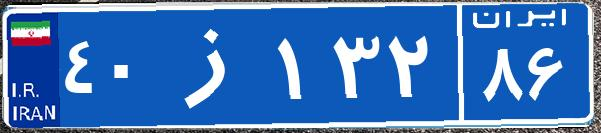0: (110, 28, 158, 105)
1: (273, 28, 330, 110)
2: (385, 28, 445, 110)
3: (330, 28, 385, 110)
4: (57, 26, 110, 107)
6: (525, 38, 570, 115)
8: (475, 38, 525, 113)
ز: (158, 15, 273, 115)
